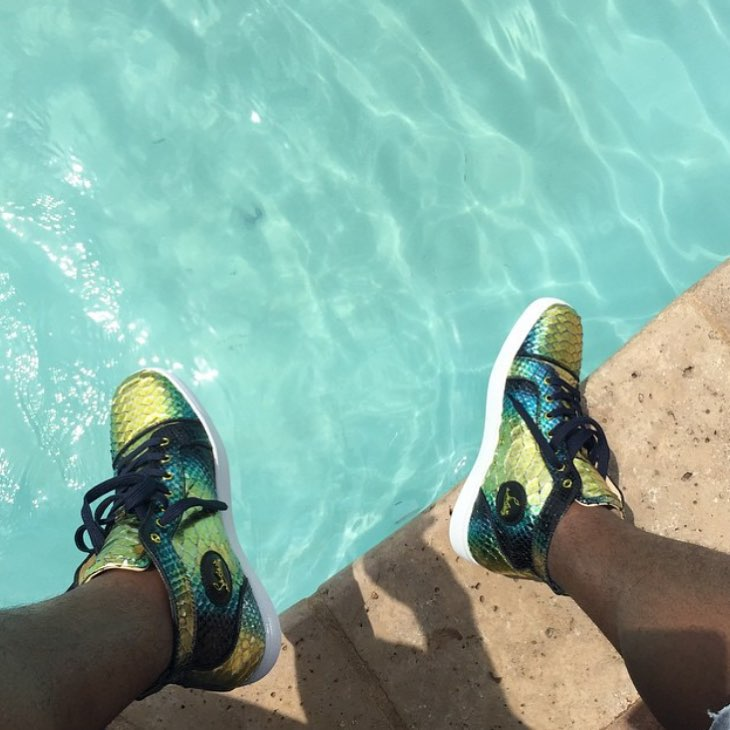sneaker: (56, 354, 294, 703), (432, 286, 645, 594)
